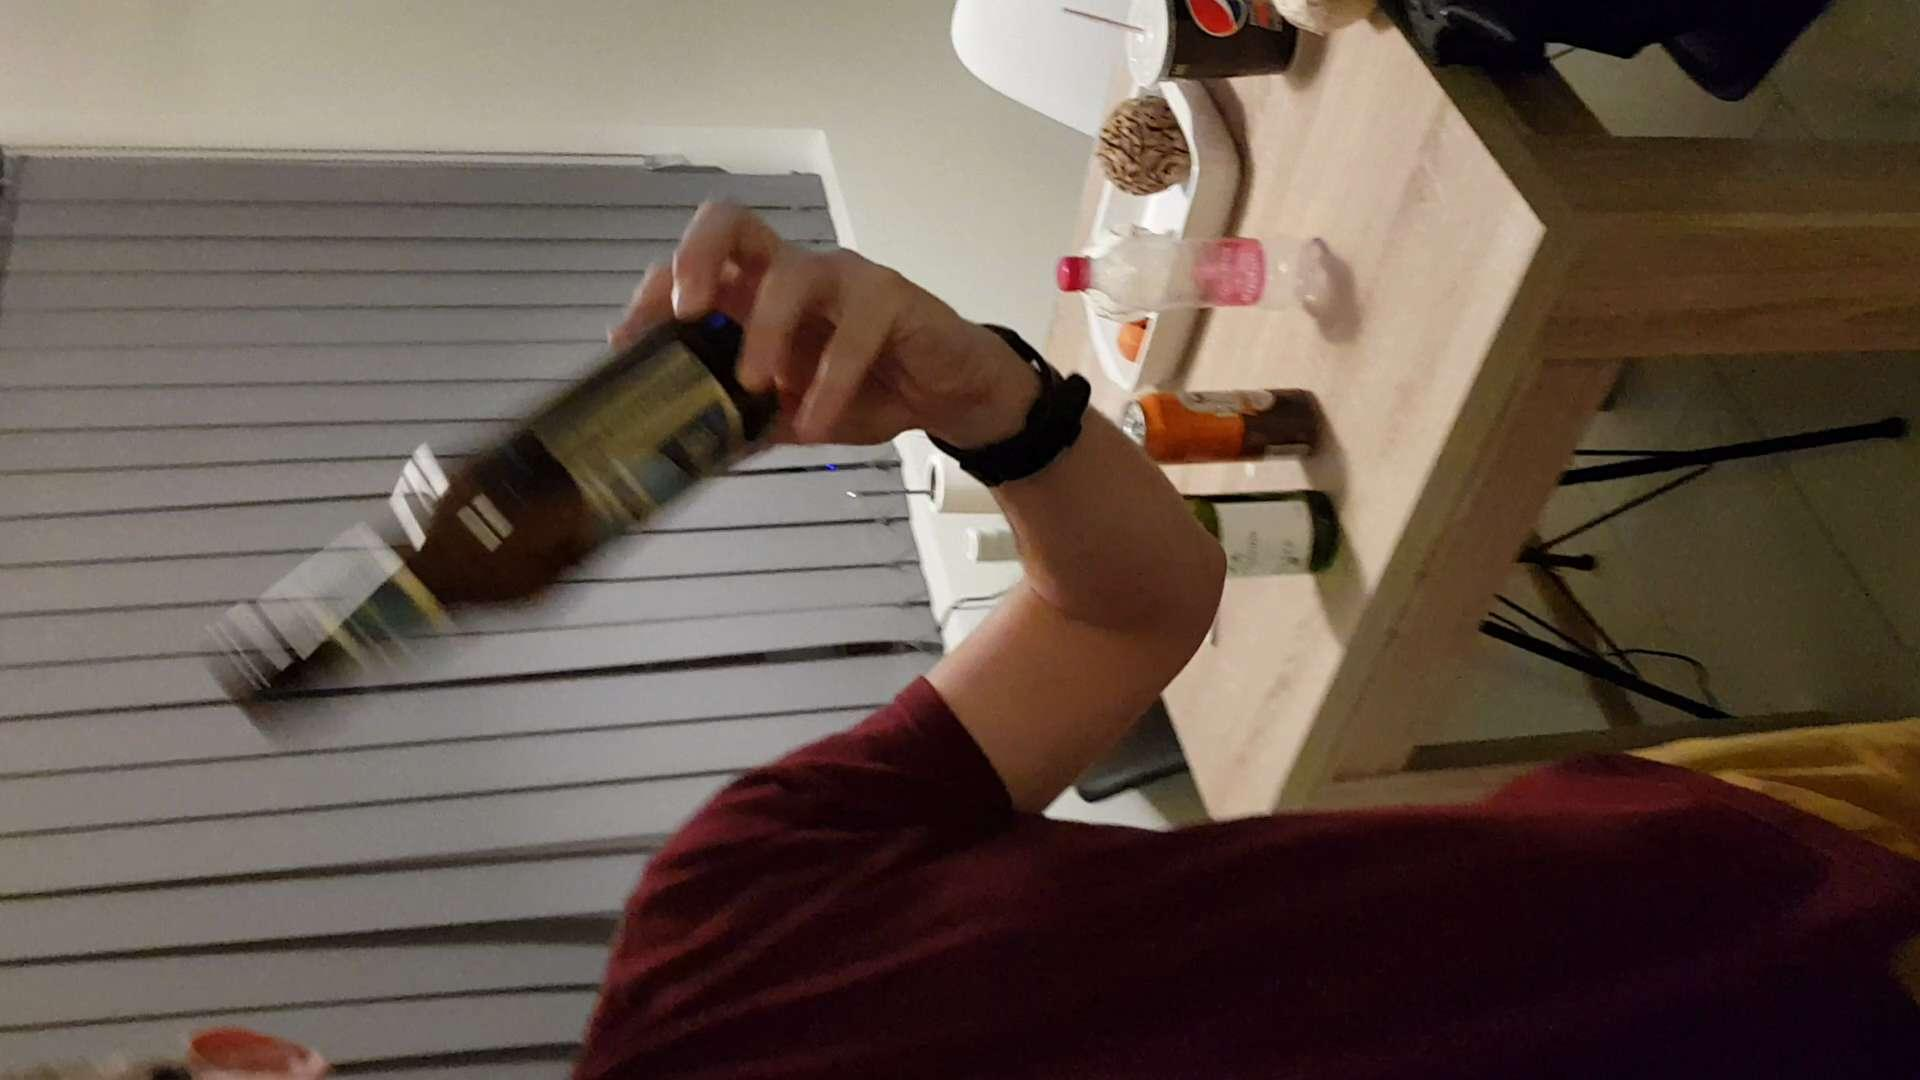Bottle: (206, 310, 783, 752)
